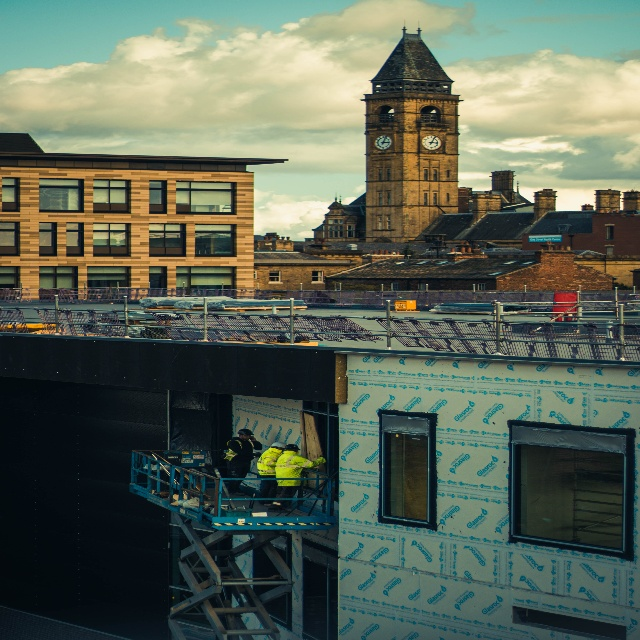Sin_guantes: (250, 436, 255, 443)
